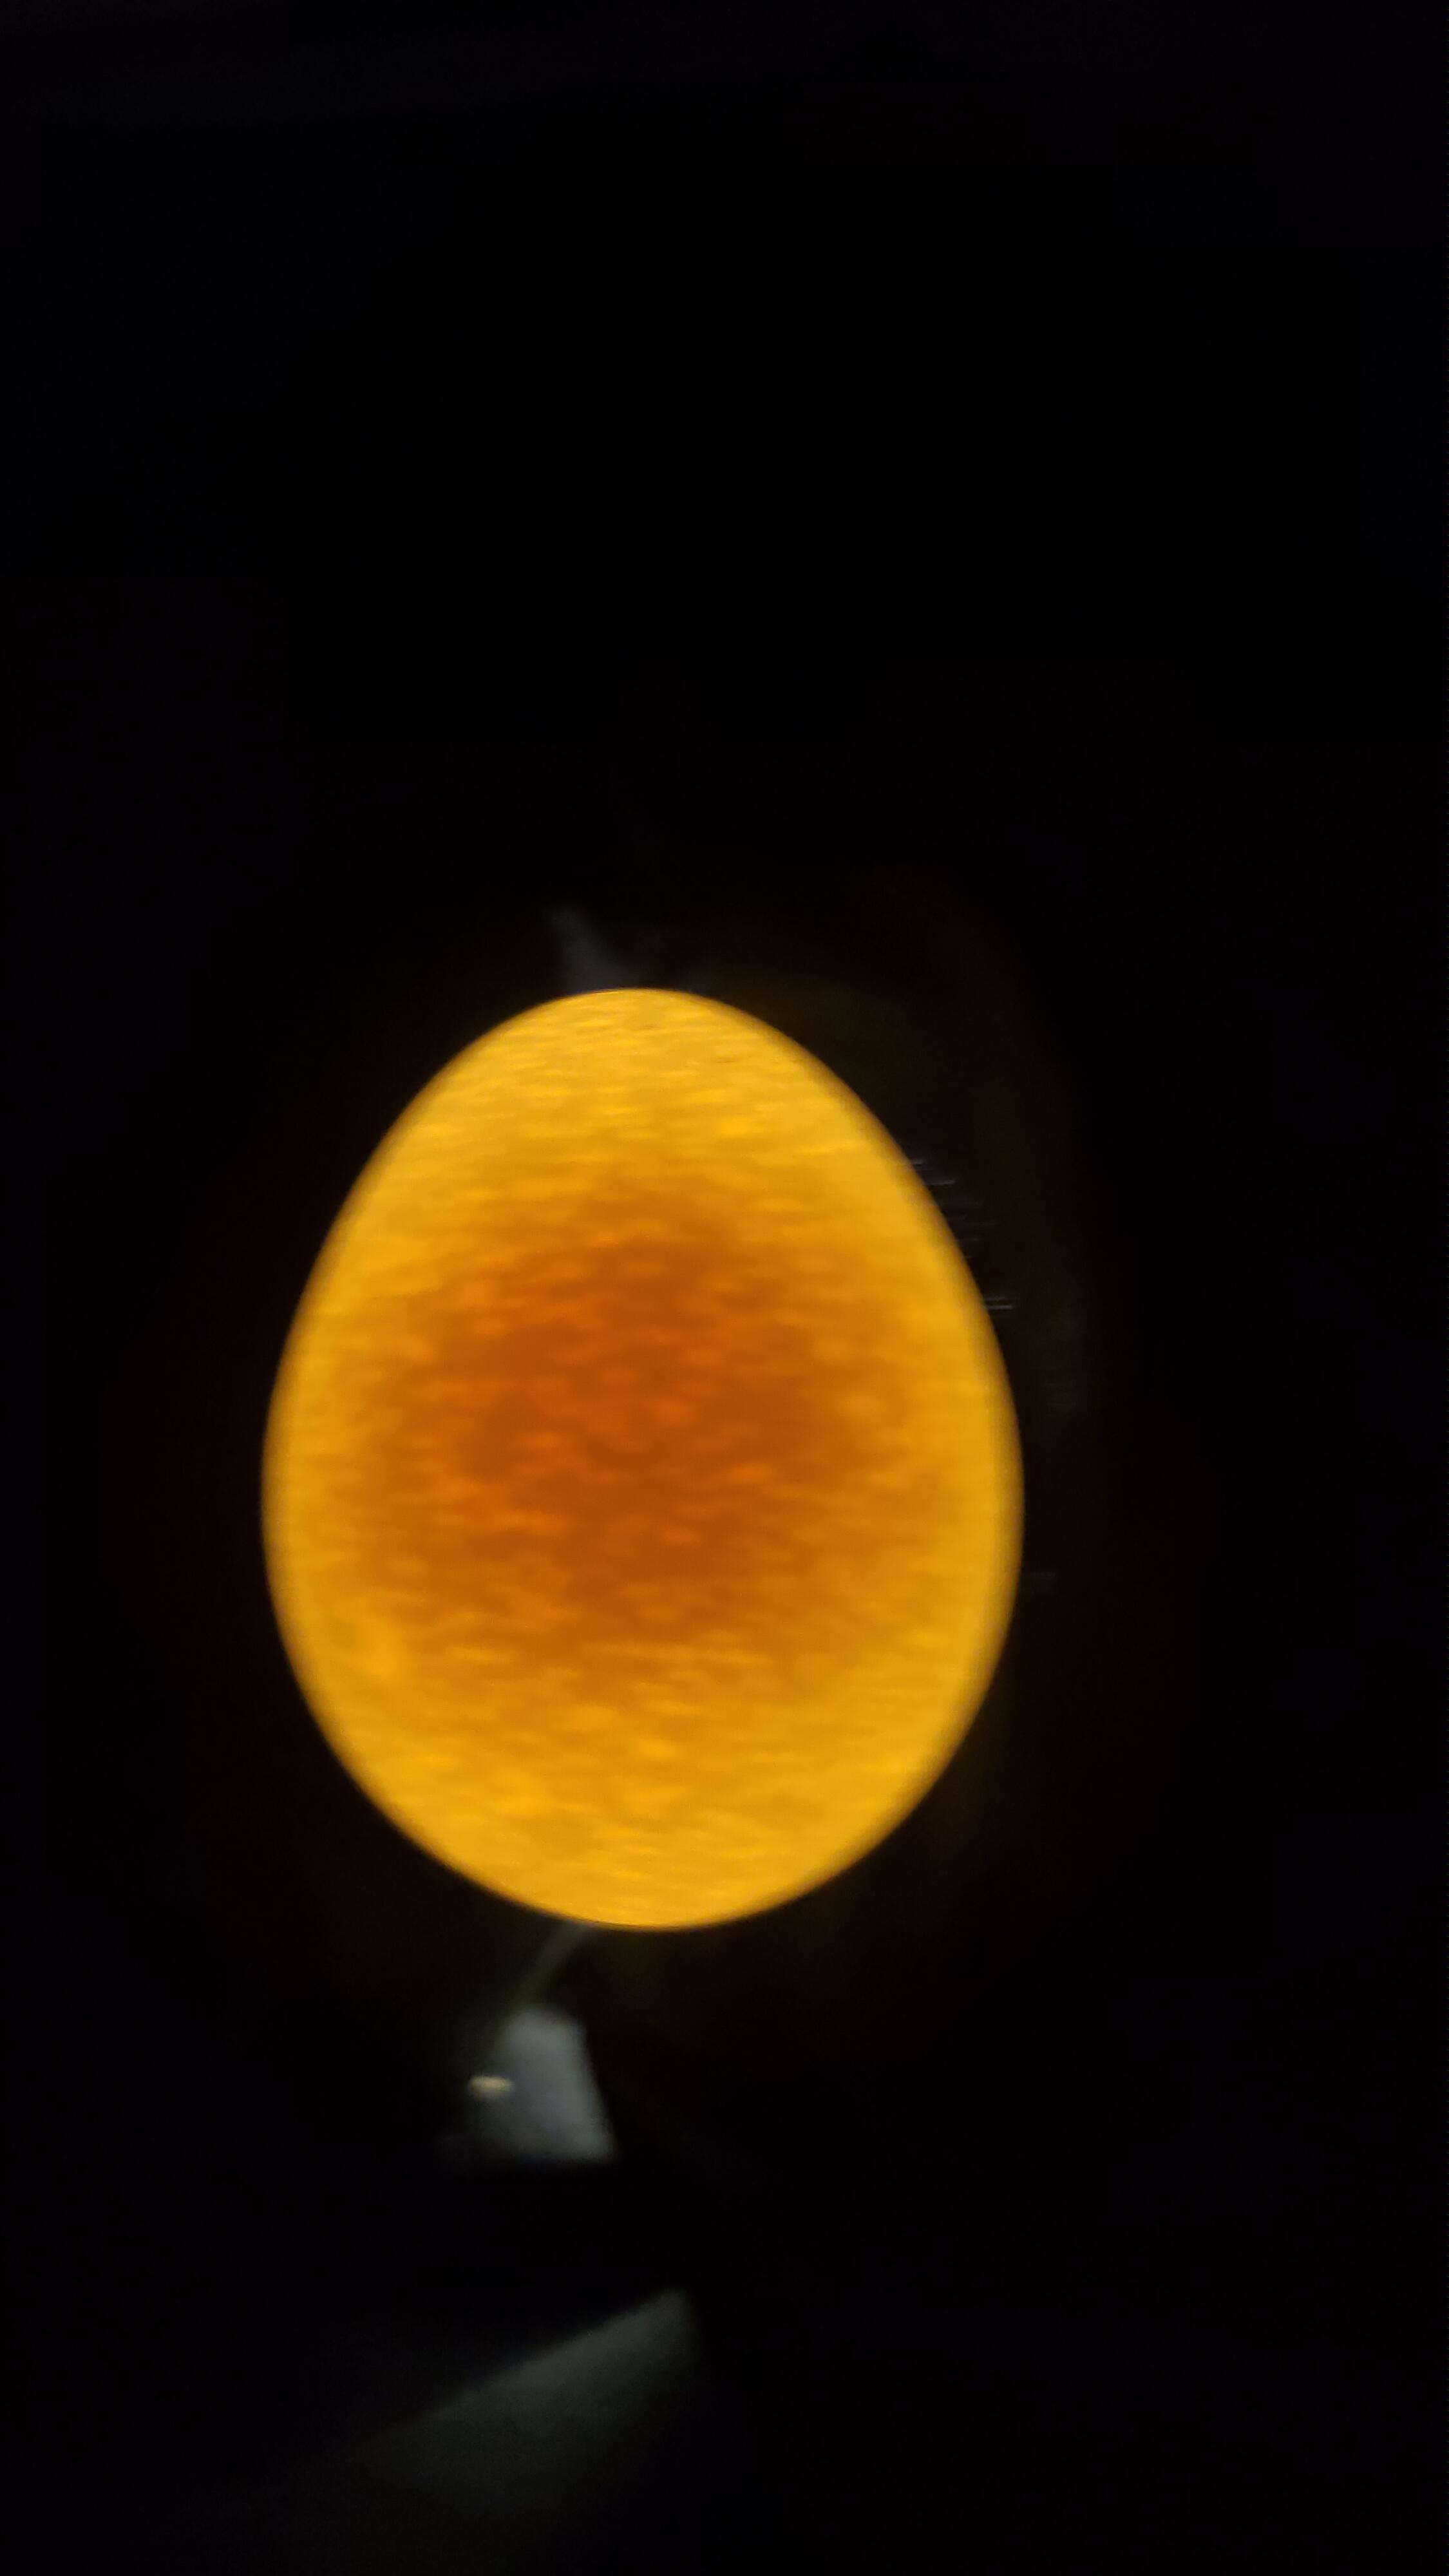A - Good: (219, 927, 1069, 1983)
